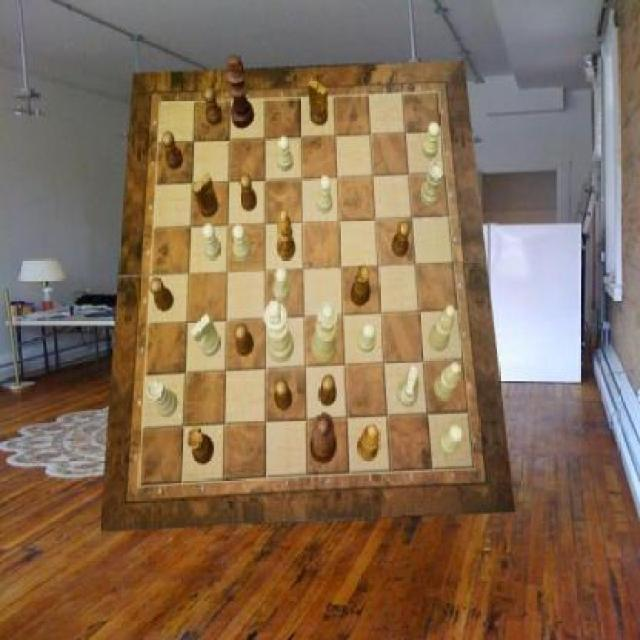bishop: (277, 209, 296, 260), (357, 425, 380, 462)
black-bishop: (227, 56, 256, 130)
black-king: (194, 172, 218, 218), (310, 79, 328, 126)
black-knight: (150, 278, 174, 312), (162, 132, 182, 170), (204, 88, 223, 126), (234, 323, 254, 357), (392, 222, 410, 259), (239, 174, 256, 211), (274, 380, 293, 412), (319, 374, 336, 406)
black-pawn: (310, 412, 338, 465)
black-queen: (188, 426, 215, 464), (351, 265, 371, 307)
black-rook: (429, 305, 456, 350), (434, 363, 461, 402)
white-bishop: (264, 298, 294, 361)
white-king: (191, 314, 221, 356), (397, 365, 419, 406)
white-knight: (440, 425, 463, 457), (202, 223, 220, 261), (232, 224, 250, 260), (317, 175, 334, 213), (422, 121, 439, 158), (277, 136, 294, 172), (274, 268, 291, 302), (359, 322, 376, 352)
white-pawn: (310, 303, 338, 365)
white-queen: (148, 380, 178, 418), (420, 161, 443, 207)
